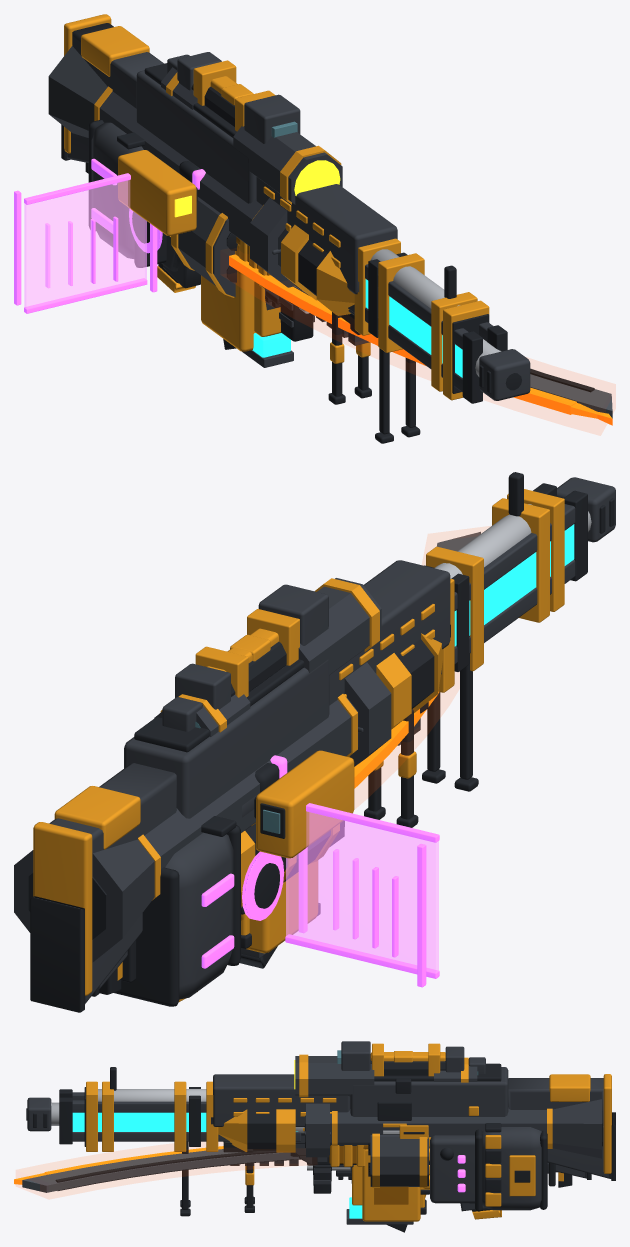
The model's file is weapons.glb.
3 renders of one model, top to bottom at view 1: azimuth 30°, elevation 25°; view 2: azimuth 150°, elevation 25°; view 3: azimuth 270°, elevation 25°, orthographic. The views are drawn at different scales.
Parts seen in each view (by area): view 1: W_minigun, W_railgun, W_gauntlet, W_rocket, W_sniper, W_sword, W_grenade, Load_rocket, W_shotgun; view 2: W_minigun, W_gauntlet, W_railgun, W_rocket, W_sniper, W_shotgun, Load_rocket, W_sword, W_grenade; view 3: W_minigun, W_railgun, W_gauntlet, W_rocket, W_sniper, W_sword, W_grenade, Load_rocket, W_shotgun, W_rifle, W_plasma.
Boxes of the visible parts, box(x1,y1,x2,y2) form: W_minigun: box(64, 14, 459, 443); W_railgun: box(157, 52, 507, 403); W_gauntlet: box(14, 120, 205, 313); W_rocket: box(48, 45, 294, 336); W_sniper: box(161, 67, 530, 404); W_sword: box(229, 254, 612, 425); W_grenade: box(171, 197, 314, 341); Load_rocket: box(272, 224, 354, 315); W_shotgun: box(61, 124, 270, 288); W_minigun: box(33, 472, 532, 995); W_gauntlet: box(114, 755, 439, 1006); W_railgun: box(99, 483, 587, 1001); W_rocket: box(14, 662, 391, 962); W_sniper: box(121, 477, 615, 982); W_shotgun: box(30, 756, 349, 1012); Load_rocket: box(358, 633, 442, 732); W_sword: box(354, 531, 480, 788); W_grenade: box(241, 821, 344, 907); W_minigun: box(98, 1052, 611, 1221); W_railgun: box(59, 1041, 572, 1224); W_gauntlet: box(423, 1123, 547, 1211); W_rocket: box(305, 1099, 602, 1211); W_sniper: box(26, 1051, 555, 1212); W_sword: box(14, 1146, 301, 1192); W_grenade: box(295, 1127, 429, 1193); Load_rocket: box(218, 1109, 330, 1152); W_shotgun: box(329, 1112, 615, 1203); W_rifle: box(387, 1162, 591, 1232); W_plasma: box(298, 1156, 356, 1167).
Size of the model in its own units: 0.892 by 0.7622 by 2.28.
